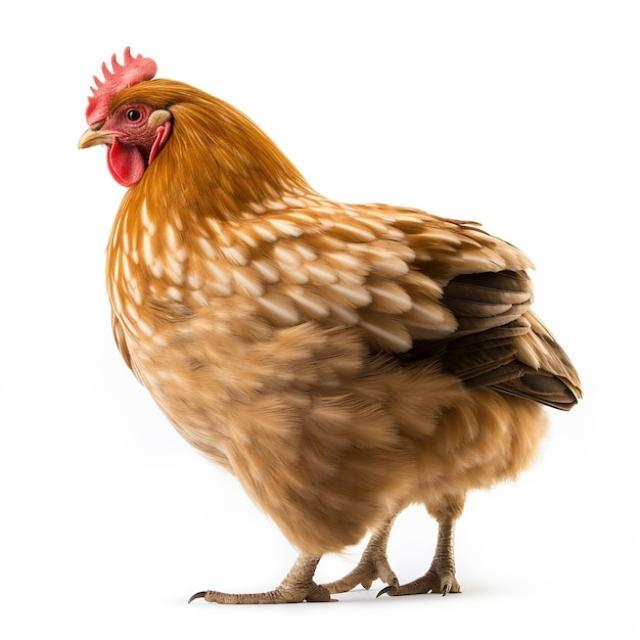Chicken: (77, 41, 584, 607)
